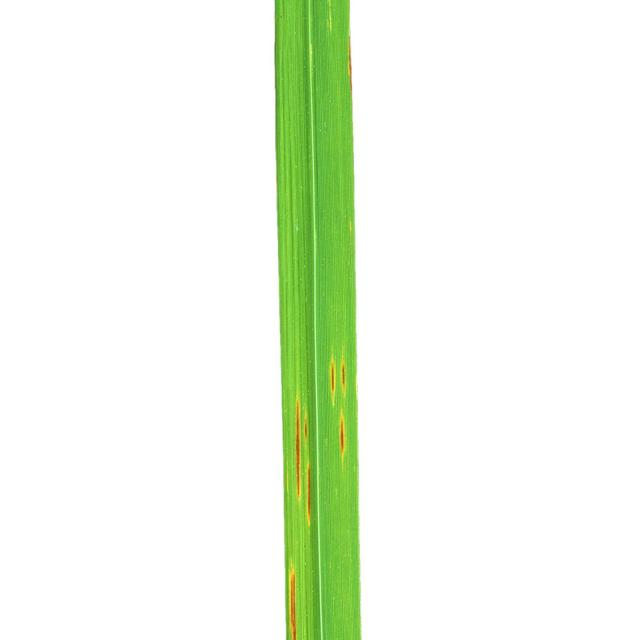Narrow brown: (251, 0, 408, 640)
